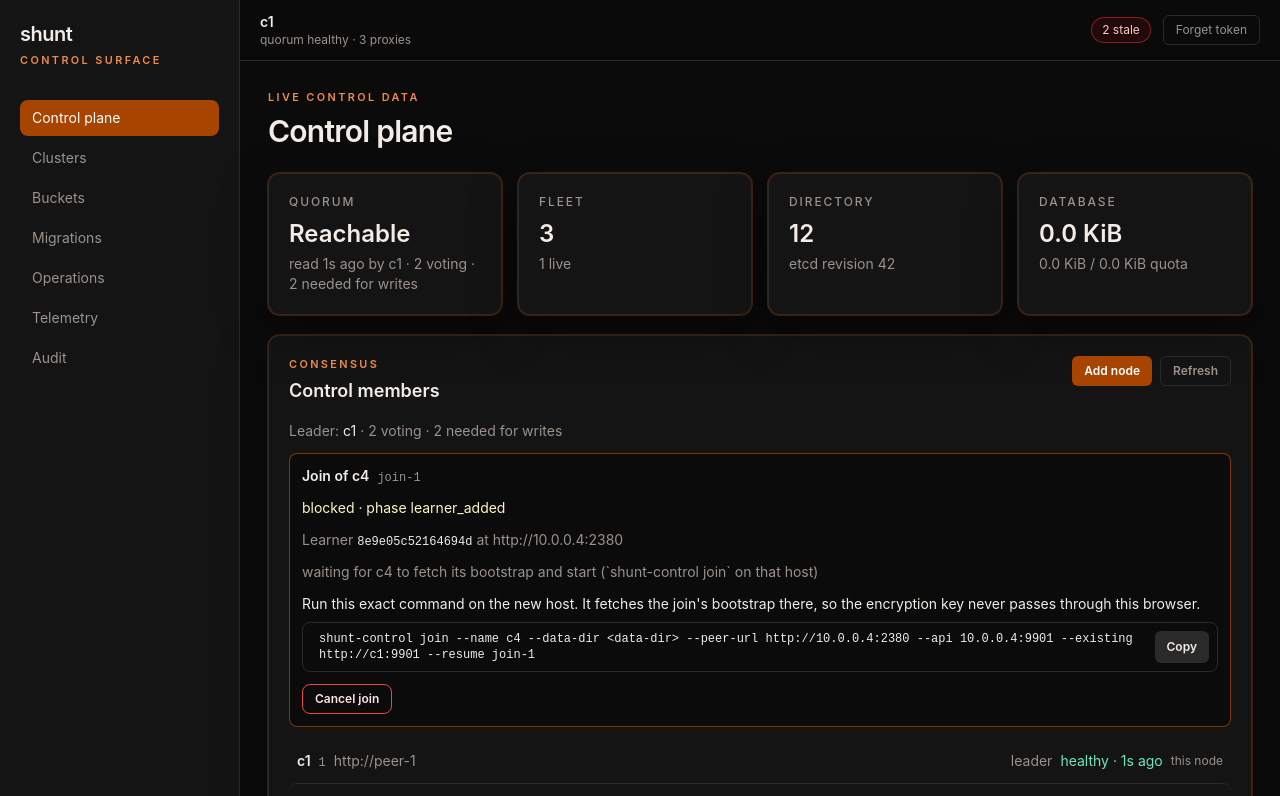
Scenario: follows the active membership change after a reload
This screenshot has width=1280, height=796.
Expected: the text "--resume join-1" is shown, [319, 632, 1133, 662]
Expected: the button "Cancel join" is enabled, [302, 684, 392, 714]
What coordinates should you click on to do the following:
click the button "Add node"
I would click on:
 (1112, 371)
Its box is [1072, 356, 1152, 386].
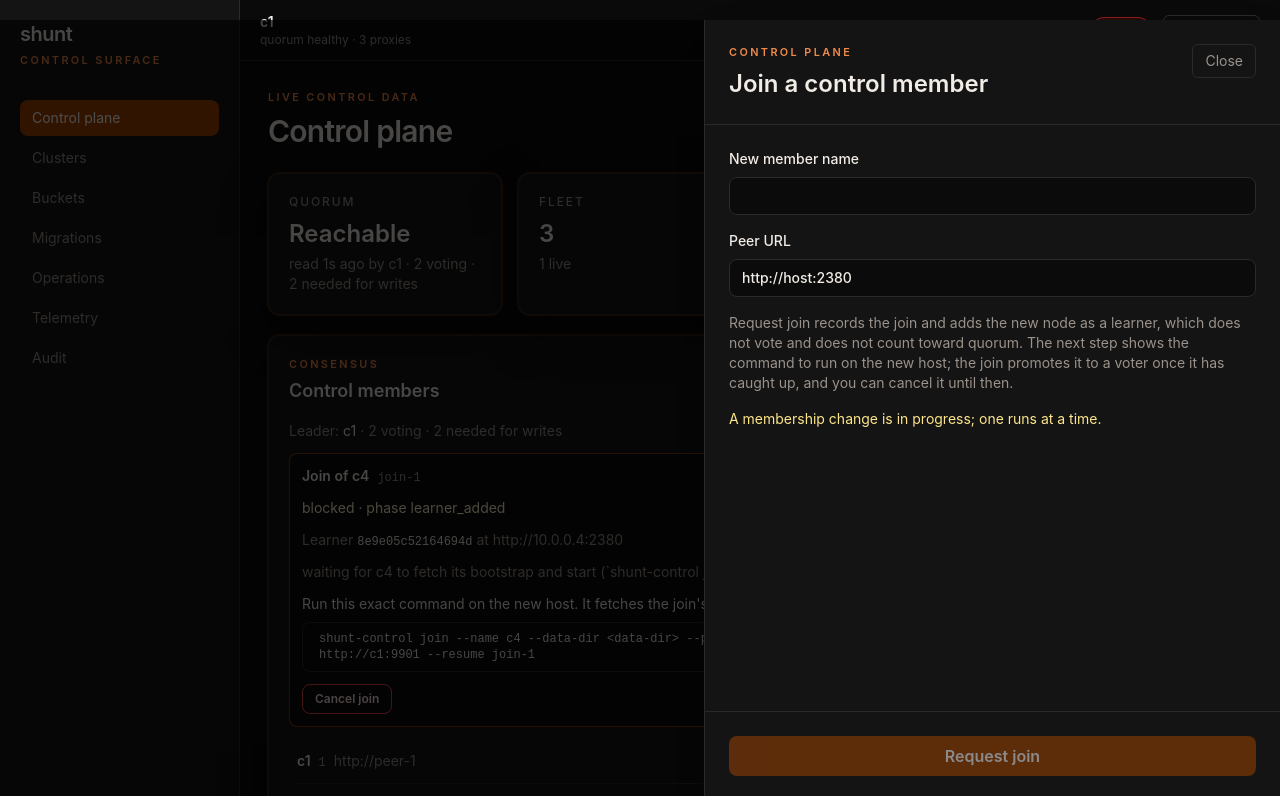
Expected: the button "Request join" is disabled, [729, 736, 1256, 776]
Expected: the text "A membership change is in progress; one runs at a time." is shown, [729, 410, 1102, 427]
